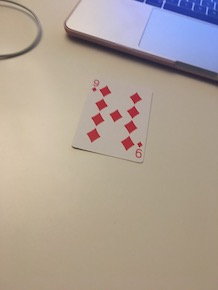NineOfDiamonds: (68, 77, 155, 166)
